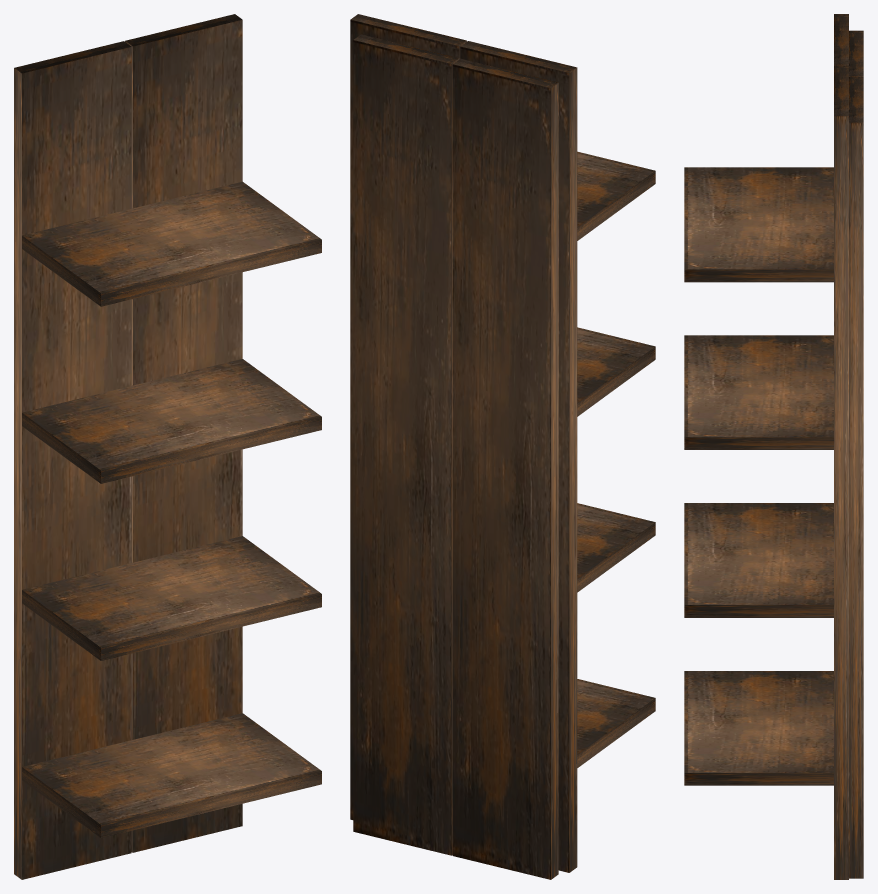
Rendered from 벽걸이 장식장.FBX.
The picture shows the model from 3 angles, left to right: view 1: azimuth 30°, elevation 25°; view 2: azimuth 150°, elevation 25°; view 3: azimuth 270°, elevation 25°; orthographic projection. The views are drawn at different scales.
Parts seen in each view (by area): view 1: 벽걸이 장식장; view 2: 벽걸이 장식장; view 3: 벽걸이 장식장.
Boxes of the visible parts, x1,y1,x2,y2 form: 벽걸이 장식장: [14, 14, 321, 879]; 벽걸이 장식장: [350, 14, 655, 879]; 벽걸이 장식장: [684, 14, 863, 879].
Size of the model in its own units: 17.98 by 63.04 by 13.35.
